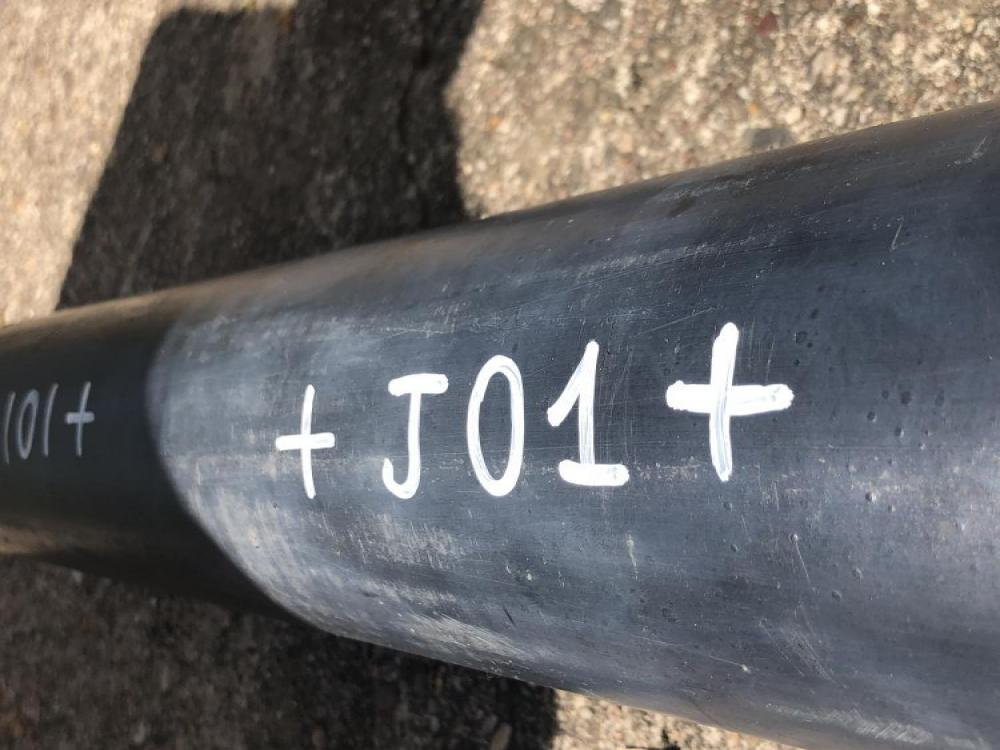+: (668, 322, 795, 482), (277, 386, 336, 498), (64, 382, 101, 456)
0: (466, 354, 528, 498), (18, 389, 38, 461)
1: (547, 340, 630, 488), (42, 383, 58, 457), (3, 392, 16, 465)
J: (382, 373, 450, 501)
